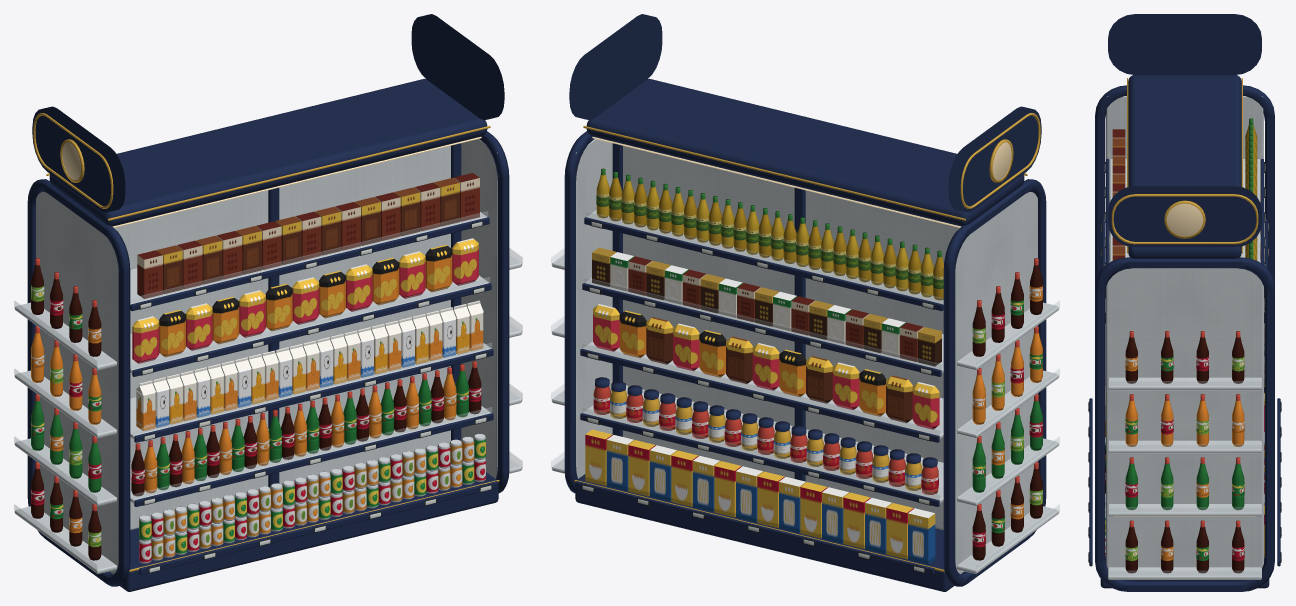
The model's file is shelf_T4.fbx.
3 renders of one model, left to right at view 1: azimuth 30°, elevation 25°; view 2: azimuth 150°, elevation 25°; view 3: azimuth 270°, elevation 25°, orthographic. The views are drawn at different scales.
Visible parts, largest first — view 1: Body, Anim Fill 3, Anim Fill 2, Anim Fill 1, Anim Fill 0; view 2: Body, Anim Fill 3, Anim Fill 1, Anim Fill 2, Anim Fill 0; view 3: Body, Anim Fill 0, Anim Fill 2, Anim Fill 3.
Boxes of the visible parts, left/top/right/bottom form: Body: left=14, top=14, right=522, bottom=591; Anim Fill 3: left=31, top=240, right=212, bottom=563; Anim Fill 2: left=196, top=216, right=306, bottom=546; Anim Fill 1: left=292, top=197, right=402, bottom=522; Anim Fill 0: left=375, top=173, right=485, bottom=499; Body: left=551, top=14, right=1059, bottom=591; Anim Fill 3: left=859, top=235, right=1042, bottom=564; Anim Fill 1: left=671, top=190, right=784, bottom=527; Anim Fill 2: left=771, top=211, right=872, bottom=548; Anim Fill 0: left=585, top=168, right=688, bottom=501; Body: left=1088, top=14, right=1281, bottom=591; Anim Fill 0: left=1105, top=237, right=1264, bottom=573; Anim Fill 2: left=1105, top=152, right=1264, bottom=311; Anim Fill 3: left=1105, top=118, right=1264, bottom=261.
Bounding box in the file's own units: 2.5 × 2.42 × 1.06.
